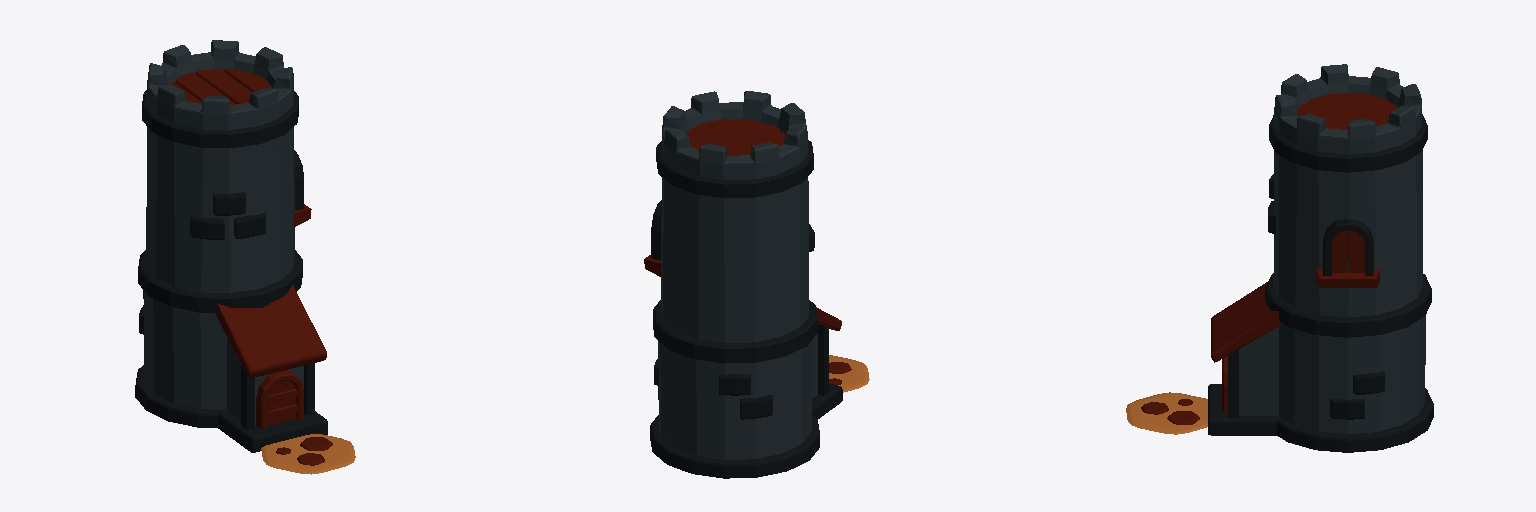
File: watchtower.obj
The picture shows the model from 3 angles: view 1: azimuth 30°, elevation 25°; view 2: azimuth 150°, elevation 25°; view 3: azimuth 270°, elevation 25°; orthographic projection.
Parts seen in each view (by area): view 1: watchtower_Cylinder.761; view 2: watchtower_Cylinder.761; view 3: watchtower_Cylinder.761.
Part boxes in pixels (bbox=[...]): watchtower_Cylinder.761: bbox=[135, 40, 355, 474]; watchtower_Cylinder.761: bbox=[644, 91, 869, 478]; watchtower_Cylinder.761: bbox=[1126, 64, 1433, 452].
Size of the model in its own units: 0.9707 by 1.98 by 1.71.